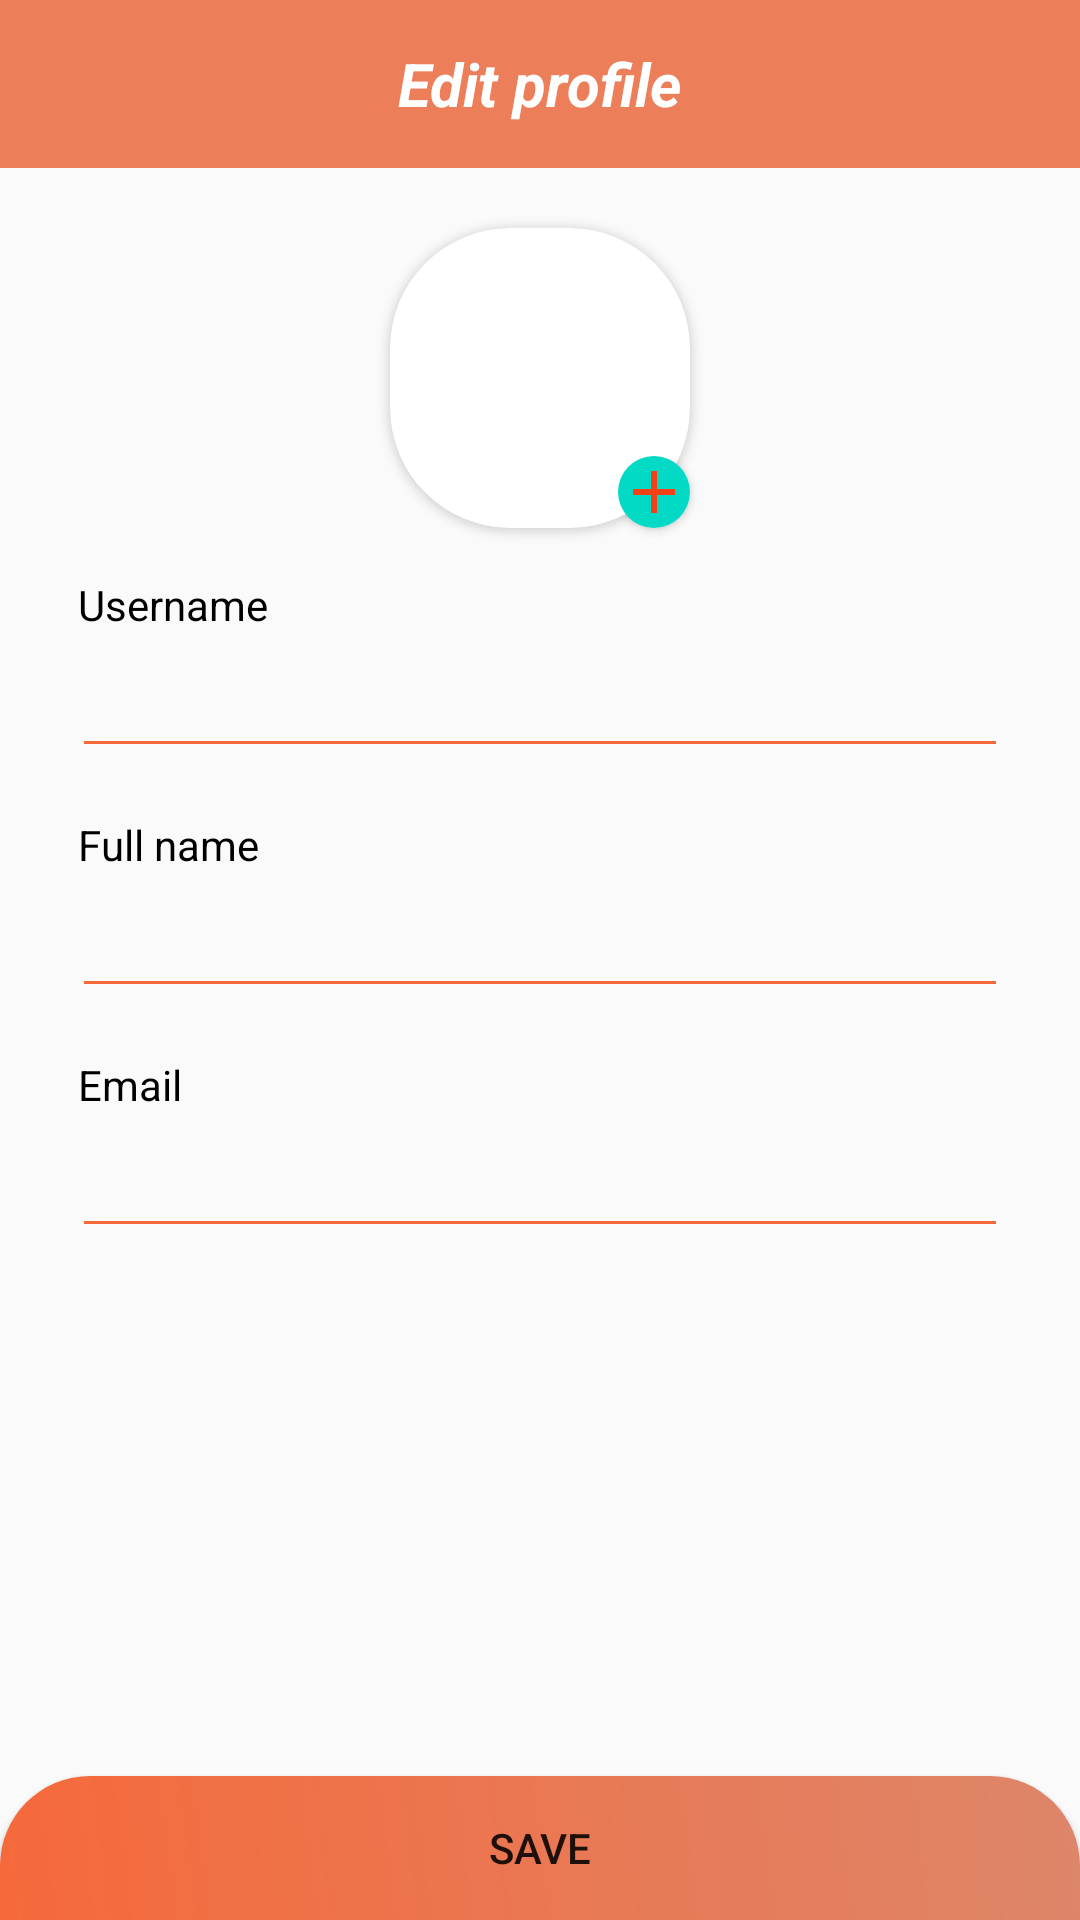

Locate icon controls on the screen. Image size 1080 x 1920, boxes as (left=x1, top=y1, right=x2, bottom=y2).
add: (left=618, top=456, right=690, bottom=528)
